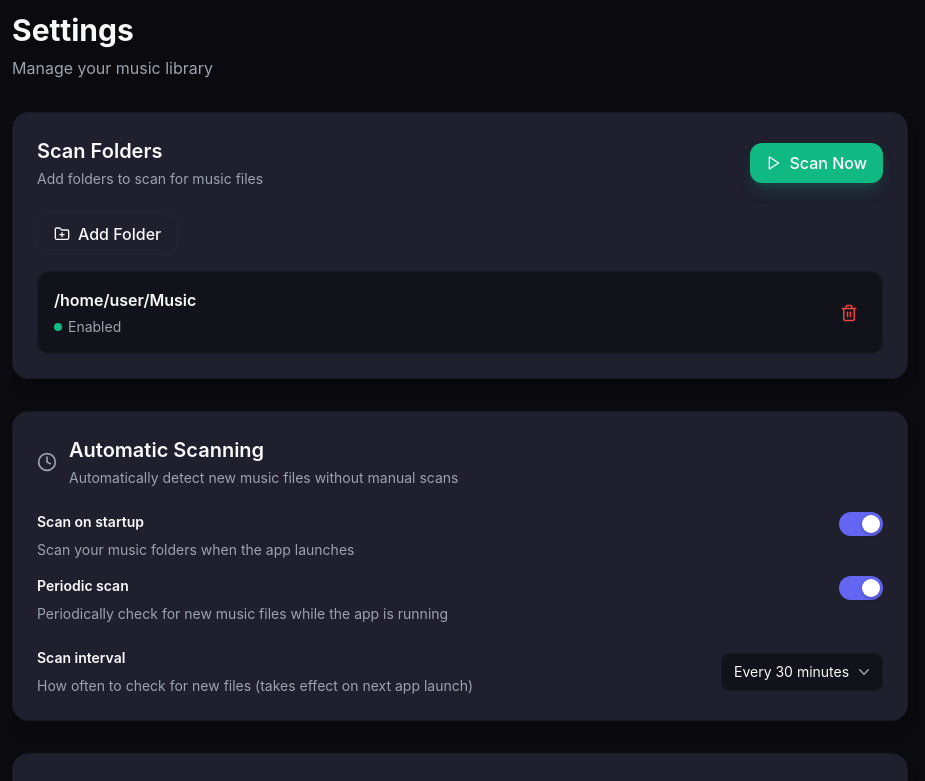
Settings › shows scan result after scan completes
Click the button "Scan Now" at (816, 163), box [750,143,883,183]
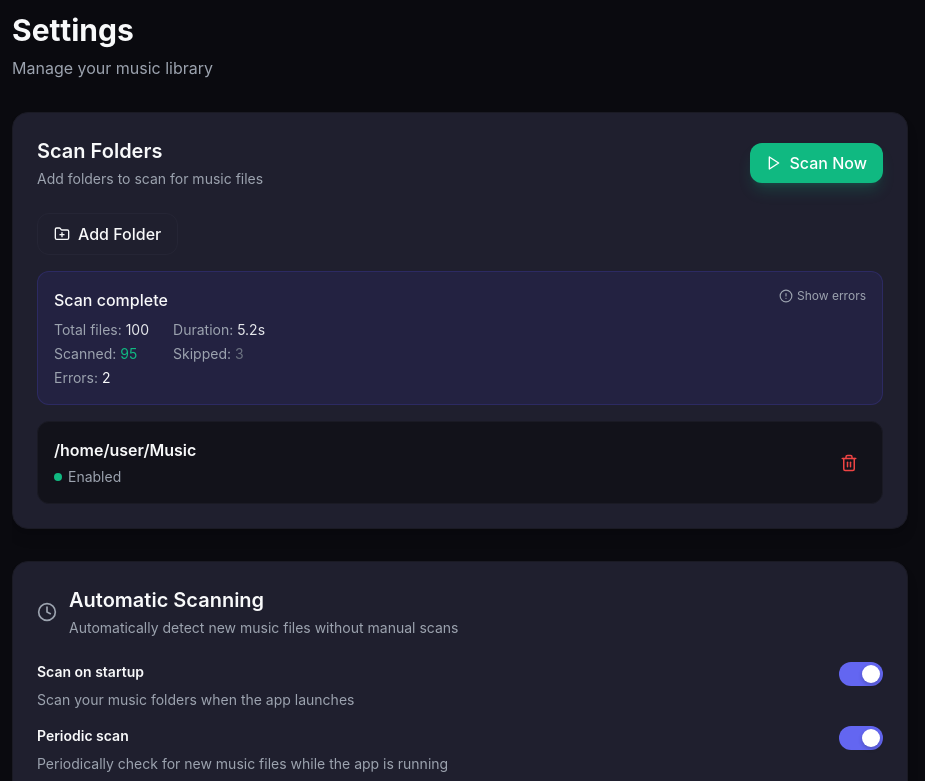
Check: the text "Scan complete" is shown, box [54,290,168,310]
